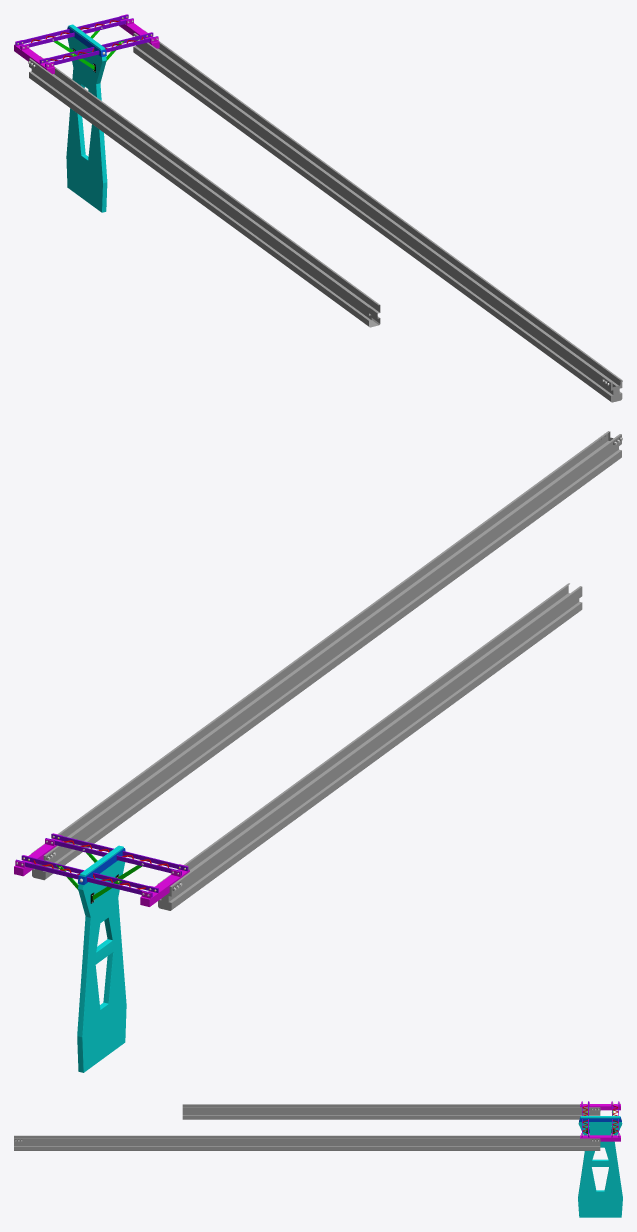
The model's file is CWR_MonoRailcut.fbx.
The picture shows the model from 3 angles, top to bottom: view 1: azimuth 30°, elevation 25°; view 2: azimuth 150°, elevation 25°; view 3: azimuth 270°, elevation 25°; orthographic projection. The views are drawn at different scales.
Visible parts, largest first — view 1: polySurface57, polySurface58, polySurface63; view 2: polySurface57, polySurface58, polySurface63; view 3: polySurface57, polySurface58, polySurface63, polySurface148, polySurface129.
Part boxes in pixels (bbox=[...]): polySurface57: bbox=[133, 31, 622, 402]; polySurface58: bbox=[29, 56, 380, 327]; polySurface63: bbox=[66, 24, 107, 212]; polySurface57: bbox=[32, 431, 621, 880]; polySurface58: bbox=[158, 583, 582, 910]; polySurface63: bbox=[77, 845, 126, 1072]; polySurface57: bbox=[14, 1135, 600, 1150]; polySurface58: bbox=[182, 1104, 600, 1119]; polySurface63: bbox=[578, 1116, 622, 1217]; polySurface148: bbox=[580, 1135, 620, 1141]; polySurface129: bbox=[580, 1104, 620, 1110].
Bounding box in the file's own units: 390 × 509 × 2802.
